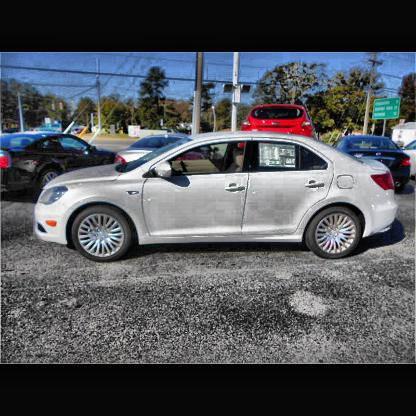Suzuki Kizashi Sedan 2012: (34, 131, 400, 263)
